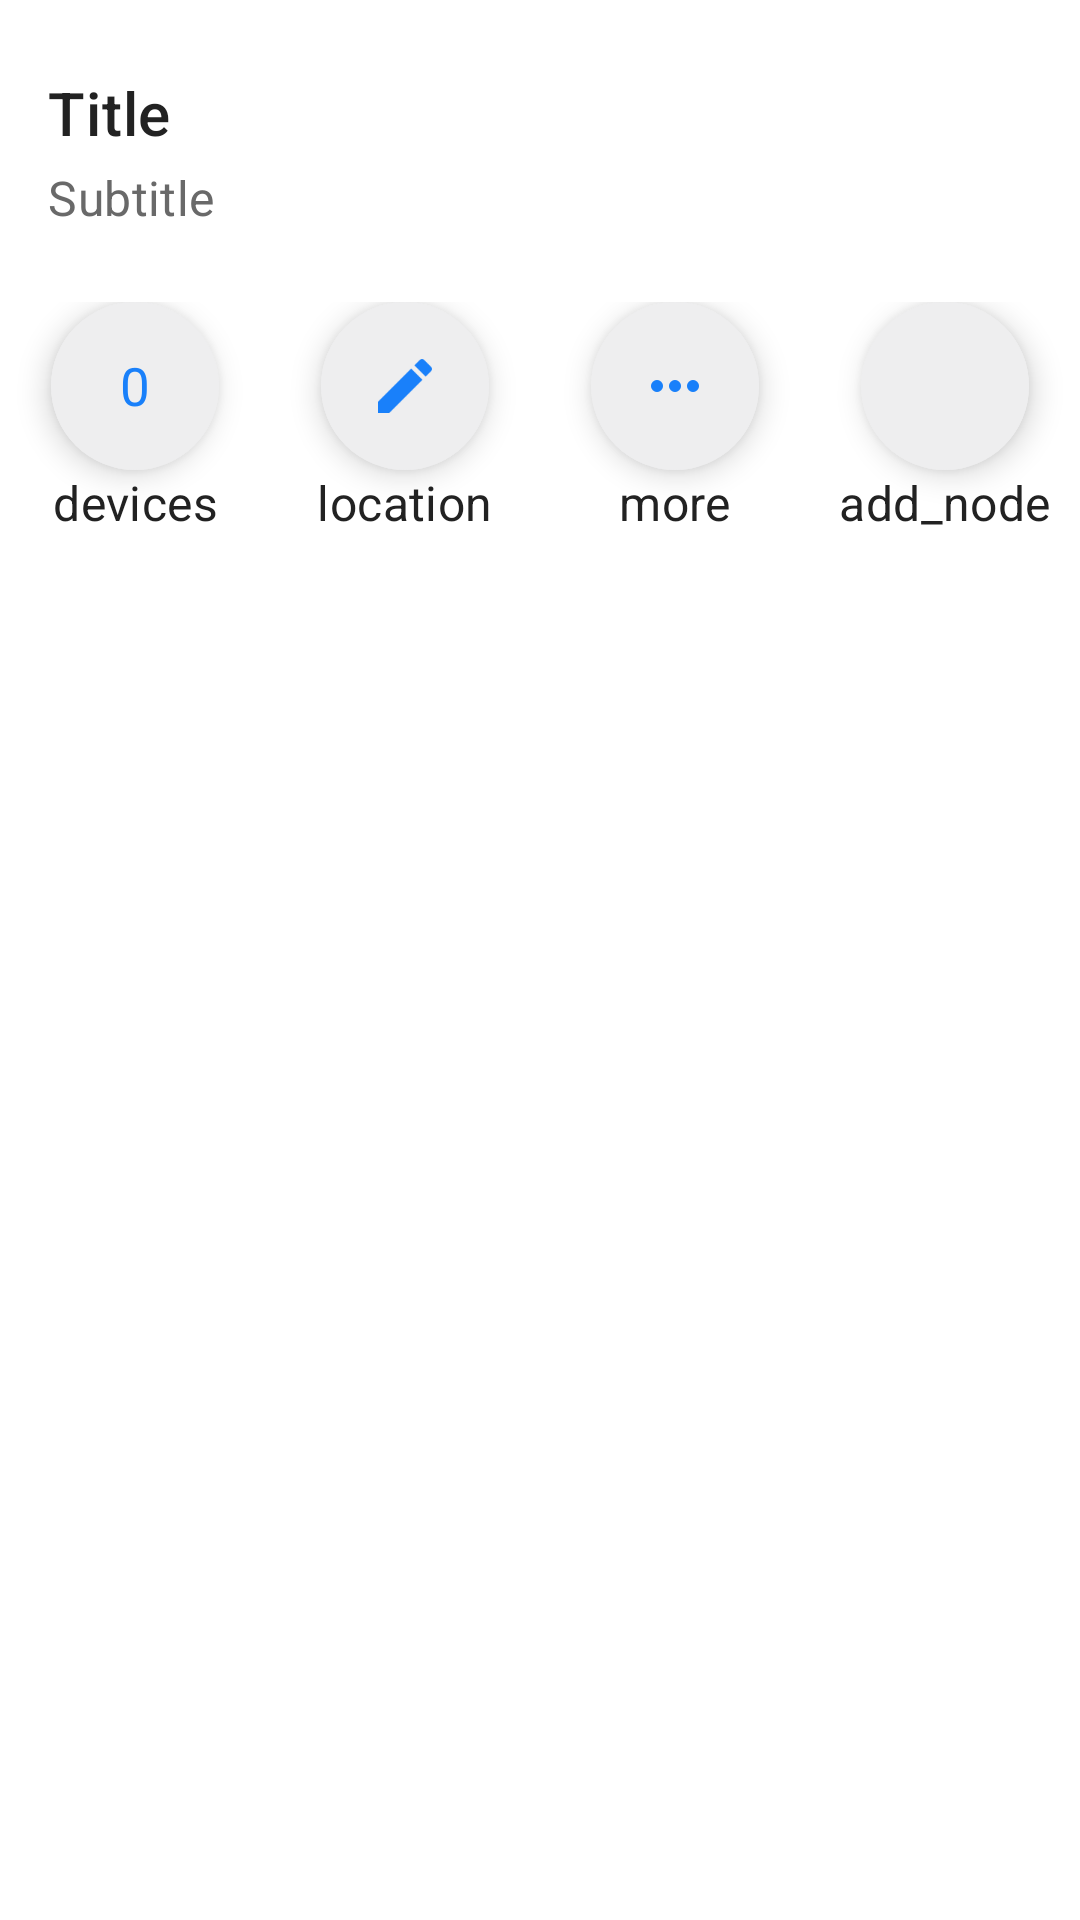

Named icons in this screenshot (1080 x 1920) and their bounding boxes, (x1, y1, x2, y2):
fab edit: (321, 302, 489, 470)
